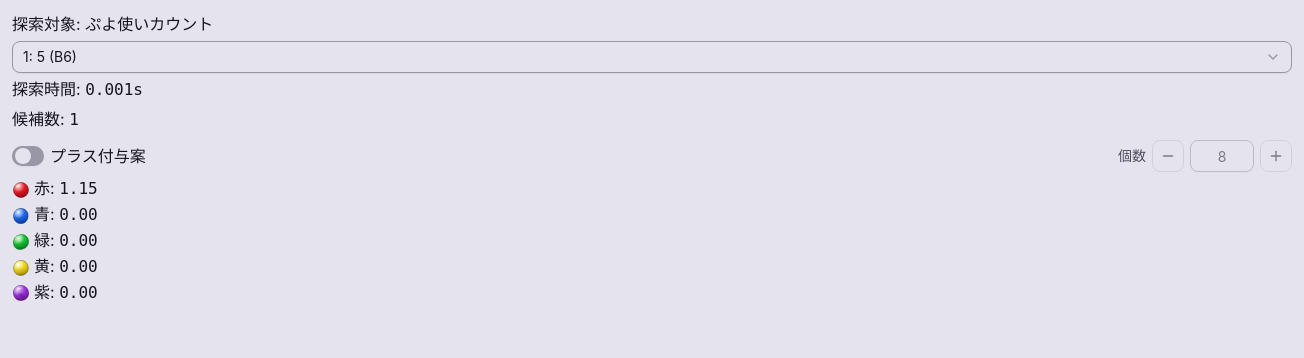
Scenario: SolutionResultView › keeps the plus assign summary hidden until it is switched on
The image size is (1304, 358).
Expected: the button "適用" is not shown
Click the switch named "プラス付与案" at x=28, y=156, box [12,146,44,166]
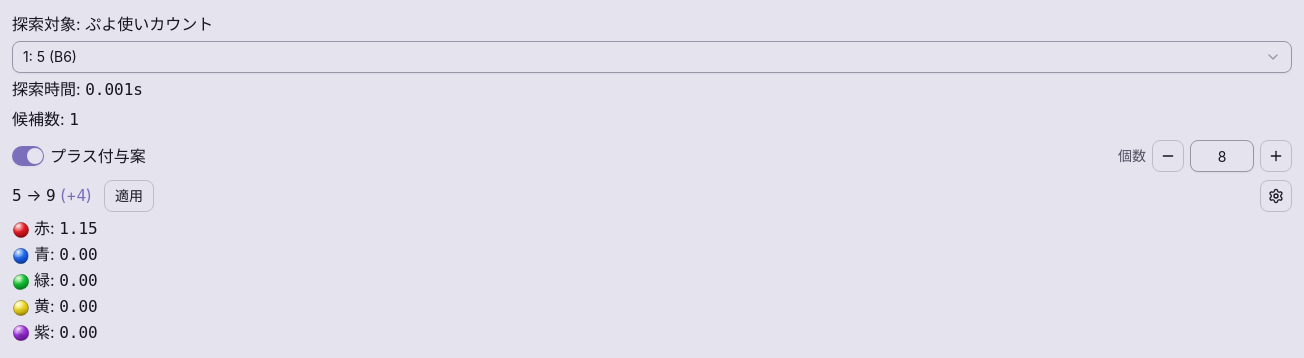
Result: the button "適用" is shown at [104,180,154,212]
Result: the text "5 → 9" is shown at [12,184,92,209]
